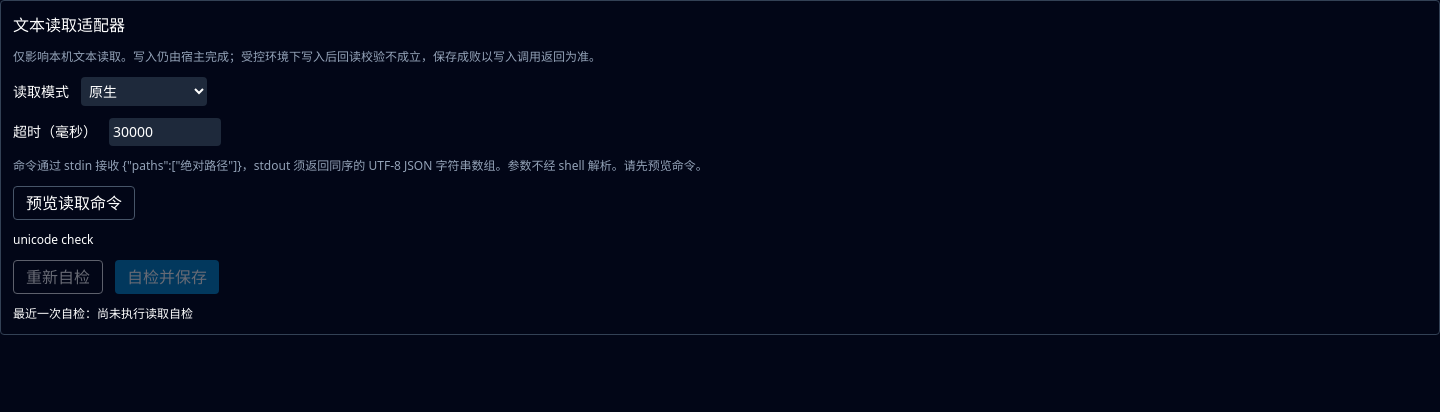
Test: shows self-check failures, preserves active settings and allows a retry
Click the button "预览读取命令".
click(74, 203)  # box [13,186,135,220]
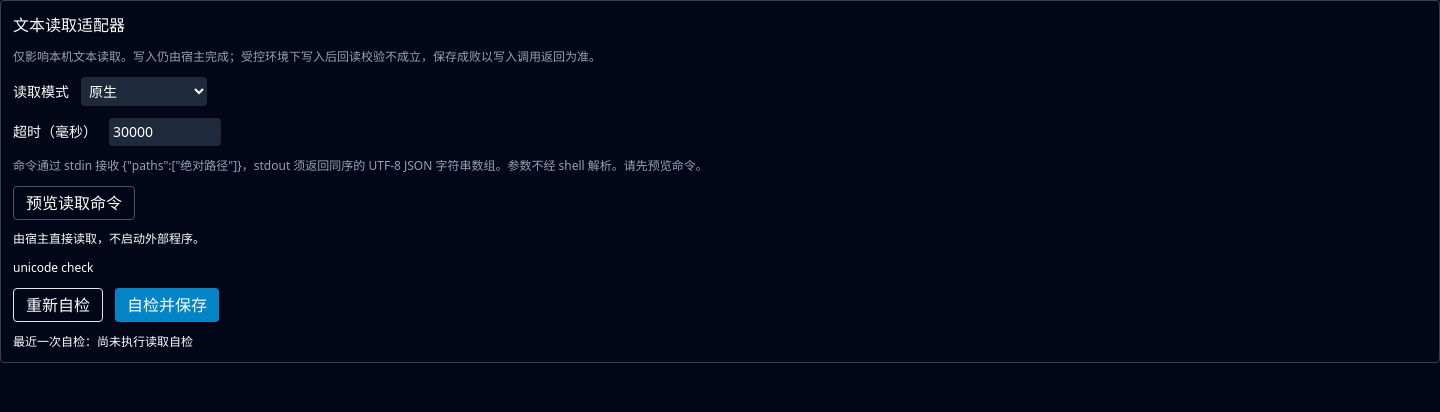
Click the button "自检并保存".
click(167, 305)  # box [115,288,219,322]
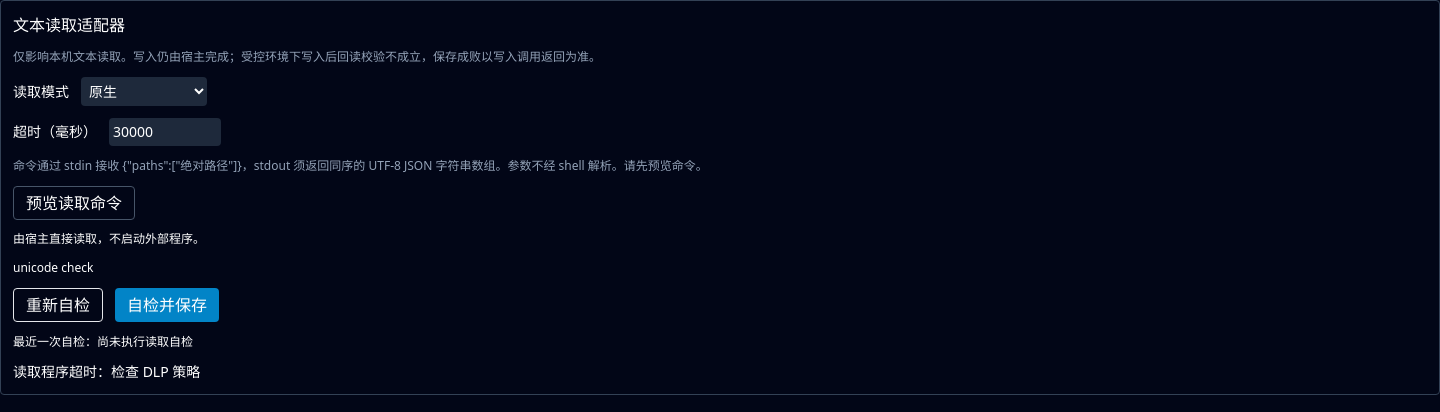
Check: the text "检查 DLP 策略" is shown, box [13,362,200,381]
Click the button "重新自检".
click(58, 305)  # box [13,288,103,322]
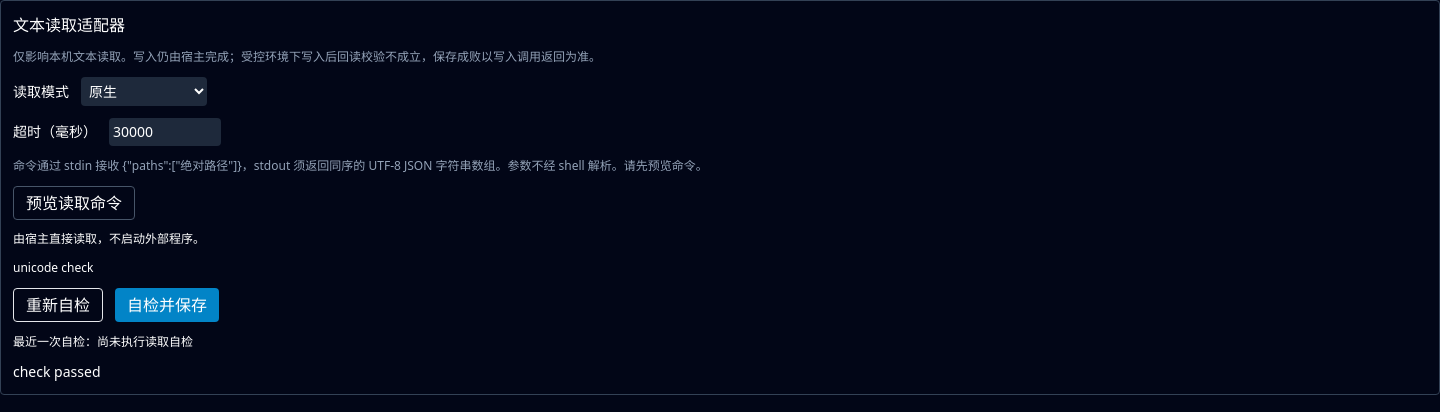
Check: the text "check passed" is shown, box [13,362,100,381]
